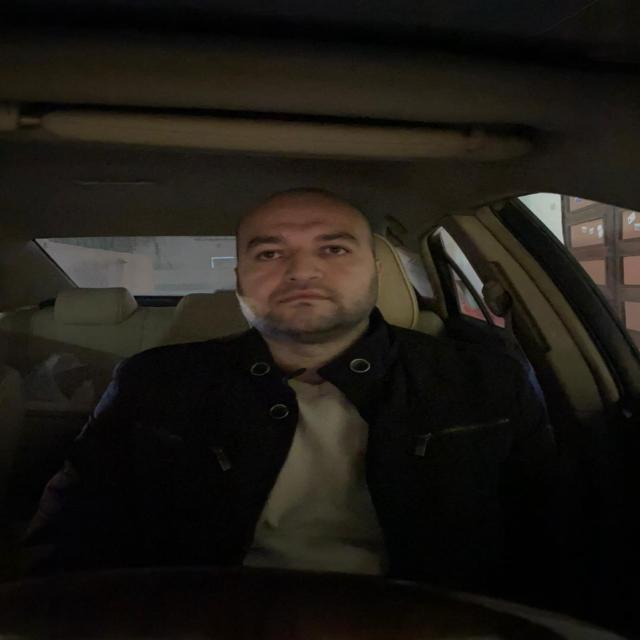person: (207, 166, 414, 366)
